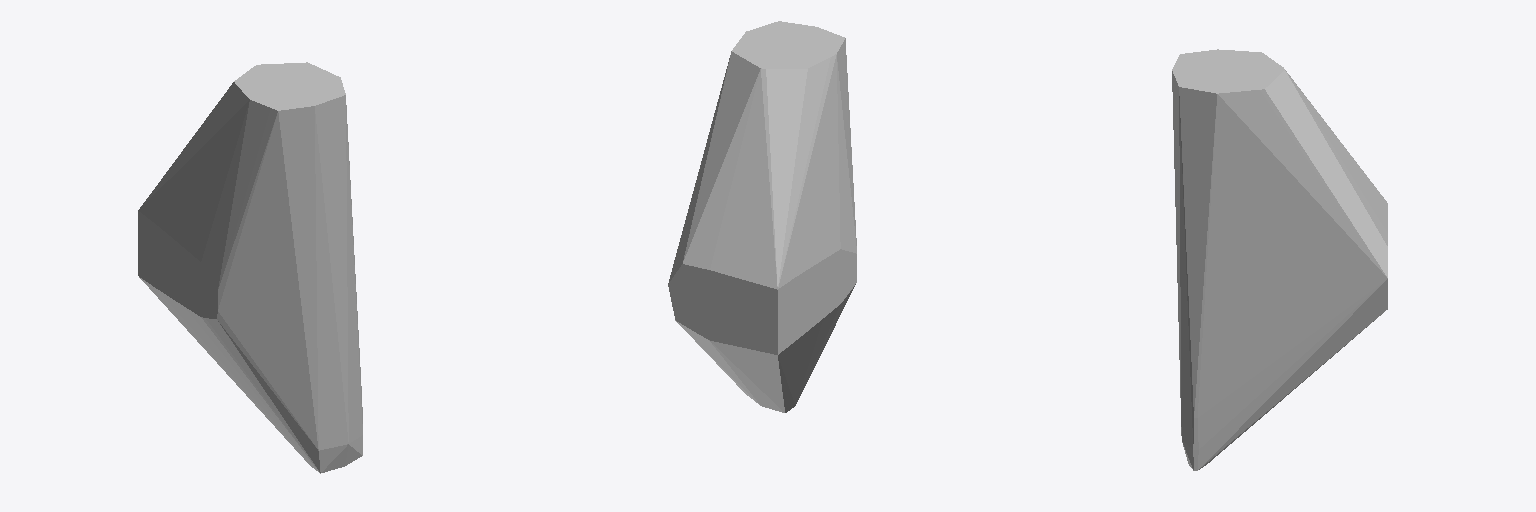
The model's file is sofa_collision_23.obj.
3 renders of one model, left to right at view 1: azimuth 30°, elevation 25°; view 2: azimuth 150°, elevation 25°; view 3: azimuth 270°, elevation 25°, orthographic.
Size of the model in its own units: 30.68 by 86.62 by 45.04.